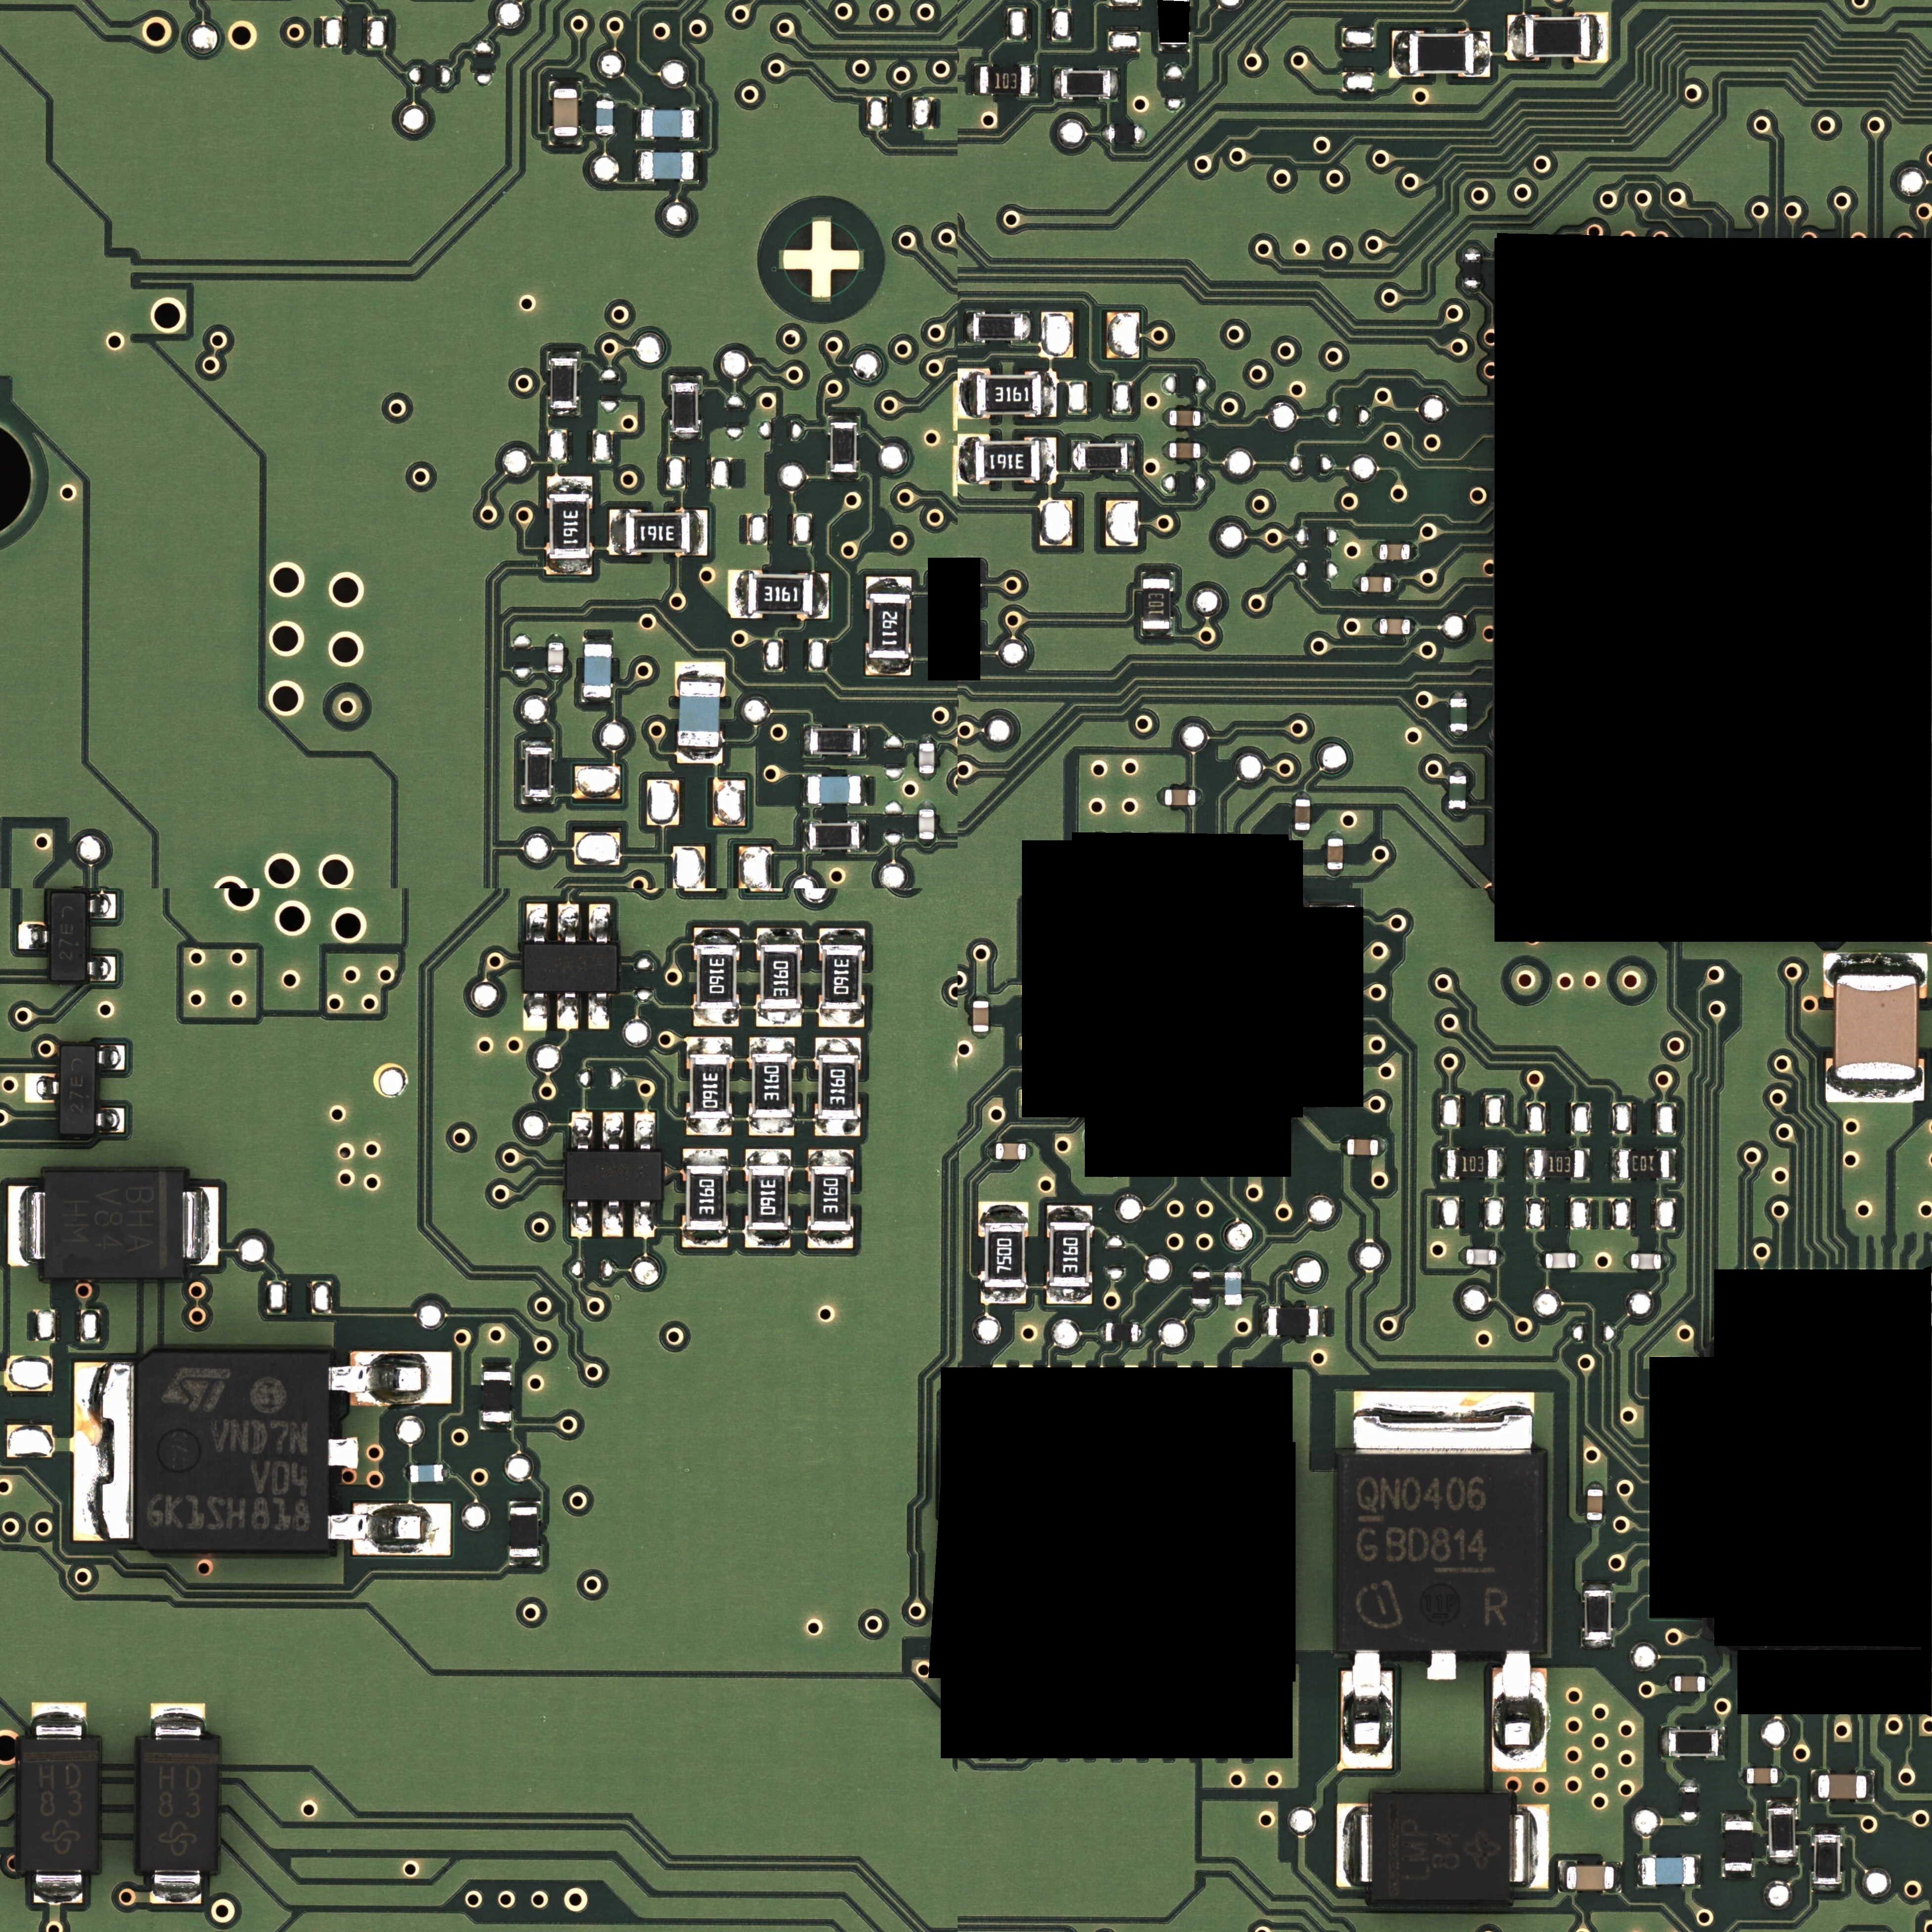Package: (1341, 1455, 1544, 1650), (137, 1352, 328, 1551), (46, 1172, 183, 1278), (1373, 1794, 1509, 1900), (140, 1740, 219, 1869), (20, 1740, 98, 1869), (1833, 975, 1919, 1080), (567, 1152, 662, 1201), (524, 944, 617, 991), (51, 893, 86, 981), (60, 1046, 95, 1135), (983, 1223, 1025, 1288), (678, 682, 720, 746), (626, 512, 690, 553), (975, 441, 1040, 482), (976, 375, 1041, 415), (1525, 17, 1590, 57), (696, 946, 737, 1010), (869, 594, 910, 658), (549, 494, 589, 559), (761, 945, 801, 1009), (689, 1055, 729, 1119), (1050, 1223, 1090, 1287), (748, 575, 813, 615), (811, 1166, 851, 1231), (819, 1055, 858, 1119), (822, 946, 862, 1009), (1409, 34, 1474, 73), (686, 1166, 726, 1230), (749, 1166, 788, 1230), (752, 1055, 791, 1118), (1268, 1307, 1318, 1336), (1642, 1857, 1695, 1885), (641, 110, 694, 137), (808, 776, 861, 804), (584, 644, 611, 697), (641, 152, 693, 179), (980, 66, 1030, 95), (1447, 1150, 1497, 1178), (1533, 1150, 1584, 1178), (510, 1507, 538, 1557), (1725, 1821, 1753, 1871), (483, 1372, 511, 1422), (1619, 1151, 1669, 1178), (1143, 579, 1170, 629), (1669, 1730, 1718, 1756), (1077, 444, 1127, 470), (973, 315, 1023, 340), (809, 823, 859, 849), (1061, 71, 1110, 97), (1770, 1808, 1795, 1857), (810, 729, 860, 754), (672, 383, 697, 433), (831, 423, 856, 472), (551, 359, 576, 408), (526, 748, 551, 797), (1585, 1591, 1610, 1640), (1814, 1835, 1839, 1884), (1818, 1775, 1867, 1799), (1566, 1866, 1614, 1890), (554, 89, 578, 136), (1106, 1323, 1138, 1342), (596, 100, 613, 134), (1224, 1272, 1242, 1305), (1193, 1272, 1210, 1304), (1449, 776, 1466, 809), (1450, 699, 1467, 731), (410, 1465, 442, 1482), (1681, 1787, 1698, 1819), (1109, 126, 1140, 143), (972, 1001, 989, 1032), (1464, 254, 1481, 286), (996, 1143, 1026, 1159), (1169, 410, 1200, 426), (1165, 789, 1196, 805), (1295, 799, 1310, 830), (1674, 1676, 1705, 1691), (1747, 1768, 1778, 1784), (1347, 1139, 1378, 1155), (919, 809, 935, 839), (1361, 577, 1391, 592), (1380, 544, 1410, 560), (1327, 839, 1343, 869), (1587, 1490, 1603, 1520), (1466, 1249, 1497, 1265), (1380, 619, 1410, 634), (548, 643, 564, 673), (1631, 1254, 1661, 1269), (1546, 1253, 1576, 1268), (919, 743, 934, 773), (1169, 443, 1200, 458)
Solder: (1353, 1392, 1535, 1455), (74, 1362, 137, 1541), (1492, 1651, 1547, 1772), (328, 1352, 452, 1404), (328, 1503, 450, 1556), (1340, 1650, 1393, 1769), (1510, 1804, 1549, 1889), (1336, 1804, 1373, 1887), (7, 1185, 45, 1266), (183, 1187, 219, 1265), (1823, 952, 1928, 975), (31, 1702, 87, 1740), (150, 1703, 205, 1740), (1825, 1081, 1925, 1101), (152, 1869, 201, 1904), (34, 1869, 83, 1903), (978, 1202, 1029, 1222), (25, 1073, 60, 1103), (675, 662, 725, 681), (523, 991, 548, 1030), (728, 570, 748, 618), (1591, 12, 1609, 63), (18, 922, 51, 950), (328, 1438, 358, 1467), (1427, 1651, 1457, 1681), (558, 904, 580, 944), (589, 903, 610, 944), (527, 903, 548, 944), (588, 991, 610, 1029), (681, 1230, 728, 1248), (572, 1112, 593, 1151), (603, 1112, 624, 1151), (807, 1231, 854, 1249), (818, 1010, 865, 1027), (745, 1230, 791, 1248), (676, 746, 723, 764), (1046, 1287, 1093, 1304), (547, 476, 592, 494), (814, 1119, 861, 1136), (690, 510, 708, 556), (694, 927, 740, 945), (756, 1010, 802, 1027), (693, 1009, 739, 1026), (748, 1118, 794, 1136), (808, 1149, 854, 1166), (686, 1037, 732, 1054), (1507, 15, 1525, 61), (634, 1112, 655, 1151), (557, 992, 579, 1029), (746, 1149, 791, 1166), (1392, 31, 1409, 76), (571, 1201, 592, 1237), (602, 1201, 624, 1237), (683, 1148, 728, 1165), (633, 1201, 655, 1237), (545, 559, 592, 575), (686, 1119, 732, 1136), (1047, 1205, 1093, 1222), (609, 510, 626, 555), (866, 577, 912, 593), (86, 893, 116, 918), (819, 928, 866, 945), (816, 1038, 861, 1055), (757, 928, 803, 944), (86, 956, 115, 981), (1474, 31, 1491, 77), (866, 659, 911, 676), (750, 1037, 795, 1054), (95, 1045, 125, 1070), (95, 1108, 124, 1132), (980, 1288, 1026, 1304), (1040, 437, 1056, 483), (813, 573, 829, 619), (1041, 371, 1057, 418), (548, 136, 582, 145), (1810, 1769, 1818, 1803), (1722, 1812, 1754, 1821), (1812, 1825, 1843, 1834), (1558, 1860, 1567, 1892), (508, 1557, 541, 1566), (1110, 67, 1118, 100), (1765, 1799, 1798, 1808), (548, 81, 583, 89), (1583, 1582, 1613, 1591), (548, 408, 580, 417), (522, 797, 554, 805), (1141, 571, 1175, 579), (1867, 1770, 1875, 1804), (860, 725, 868, 759), (1023, 311, 1031, 344), (1811, 1884, 1843, 1892), (1159, 45, 1191, 53), (827, 472, 859, 481), (1660, 1726, 1668, 1757), (669, 433, 702, 440), (1140, 629, 1173, 637), (1614, 1861, 1622, 1894), (480, 1422, 512, 1430), (547, 351, 580, 359), (827, 415, 860, 423), (669, 375, 701, 383), (966, 311, 973, 343), (859, 820, 867, 852), (1127, 440, 1135, 473), (1582, 1640, 1614, 1648), (522, 739, 554, 747), (1767, 1857, 1798, 1865), (1721, 1871, 1755, 1879), (802, 725, 810, 757), (1053, 67, 1061, 99), (633, 107, 641, 139), (1031, 64, 1038, 97), (1440, 1148, 1447, 1180), (1260, 1305, 1268, 1337), (507, 1500, 541, 1507), (861, 774, 868, 806), (1526, 1148, 1533, 1180), (1611, 1149, 1619, 1180), (802, 821, 809, 852), (1318, 1306, 1326, 1337), (801, 773, 808, 806), (1070, 439, 1077, 472), (1719, 1727, 1726, 1760), (634, 150, 641, 182), (693, 151, 700, 182), (582, 637, 613, 644), (1498, 1149, 1505, 1180), (973, 65, 980, 96), (580, 697, 613, 704), (1636, 1855, 1642, 1887), (481, 1365, 512, 1371), (1669, 1149, 1676, 1181), (1584, 1149, 1591, 1181), (694, 107, 700, 140), (1695, 1855, 1701, 1887), (1448, 768, 1467, 775), (1497, 1249, 1505, 1265), (1458, 1248, 1467, 1264), (1449, 732, 1469, 739), (403, 1464, 410, 1482), (547, 634, 564, 642), (1196, 789, 1204, 806), (1587, 1482, 1603, 1490), (1448, 809, 1468, 816), (1680, 1780, 1699, 1787), (918, 802, 935, 810), (1162, 442, 1170, 458), (1158, 788, 1165, 806), (988, 1142, 996, 1159), (1449, 691, 1468, 698), (1538, 1253, 1546, 1268), (972, 994, 989, 1001), (972, 1031, 989, 1039), (1099, 1323, 1106, 1341), (1141, 126, 1149, 142), (1661, 1253, 1669, 1269), (1192, 1304, 1210, 1310), (596, 94, 614, 100), (918, 736, 934, 743), (1162, 409, 1170, 425), (1201, 410, 1208, 426), (1372, 619, 1380, 634), (1378, 1139, 1386, 1155), (1575, 1253, 1583, 1268), (1026, 1143, 1033, 1160), (1224, 1305, 1243, 1311), (1464, 247, 1482, 254), (1464, 286, 1482, 292), (1668, 1675, 1674, 1692), (1705, 1675, 1712, 1693), (547, 673, 564, 680), (918, 839, 935, 846), (1102, 125, 1109, 142), (1587, 1520, 1603, 1527), (443, 1464, 449, 1482), (1740, 1767, 1747, 1785), (1200, 442, 1207, 458), (1354, 576, 1361, 592), (1326, 869, 1343, 876), (1294, 830, 1311, 836), (919, 773, 935, 779), (596, 134, 613, 140), (1680, 1818, 1697, 1824), (1224, 1266, 1243, 1271), (1410, 619, 1416, 634), (1341, 1139, 1347, 1155), (1139, 1325, 1145, 1341), (1410, 543, 1416, 560), (1779, 1767, 1785, 1784), (1625, 1253, 1631, 1268), (1193, 1266, 1210, 1271), (1294, 793, 1311, 799), (1327, 832, 1344, 838), (1391, 577, 1397, 592), (1374, 544, 1380, 559)
